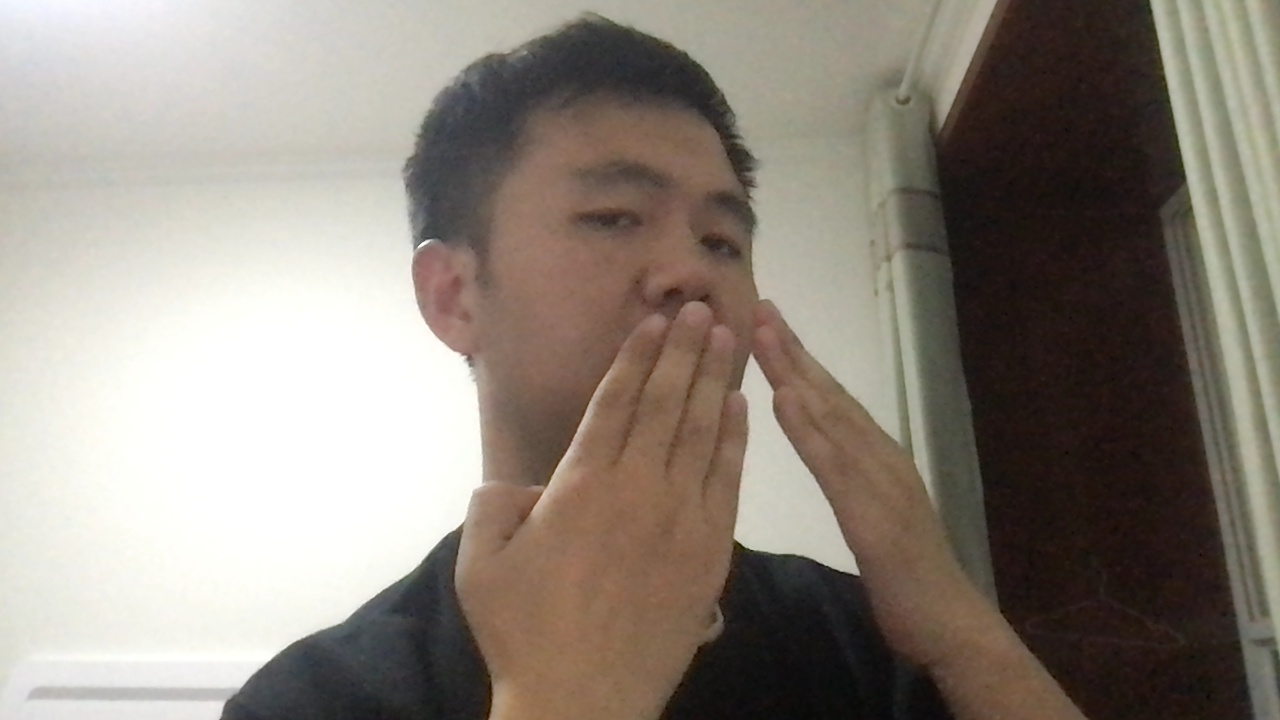thanks: (426, 282, 1035, 686)
